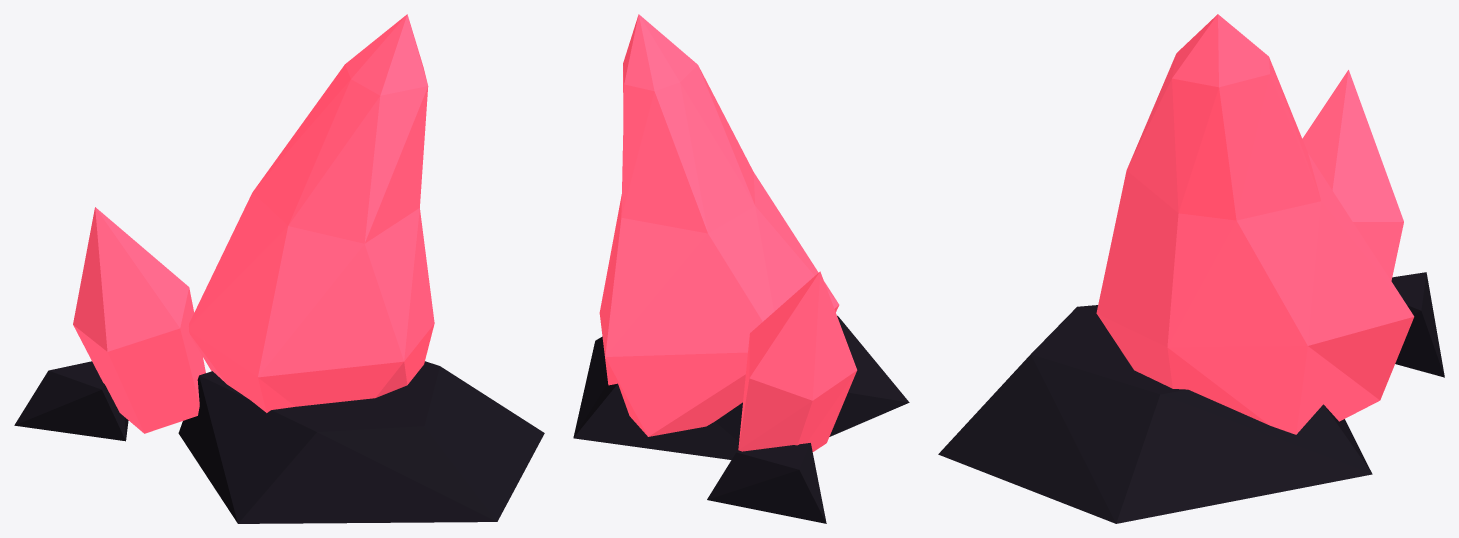
File: DA_RiftShard.fbx
The picture shows the model from 3 angles, left to right: view 1: azimuth 30°, elevation 25°; view 2: azimuth 150°, elevation 25°; view 3: azimuth 270°, elevation 25°; orthographic projection. The views are drawn at different scales.
Parts seen in each view (by area): view 1: DA_RiftShard_Neon_Rift, DA_RiftShard_Base; view 2: DA_RiftShard_Neon_Rift, DA_RiftShard_Base; view 3: DA_RiftShard_Neon_Rift, DA_RiftShard_Base.
Boxes of the visible parts, x1,y1,x2,y2 form: DA_RiftShard_Neon_Rift: (73, 14, 434, 433); DA_RiftShard_Base: (14, 361, 544, 523); DA_RiftShard_Neon_Rift: (599, 14, 857, 451); DA_RiftShard_Base: (573, 315, 909, 523); DA_RiftShard_Neon_Rift: (1096, 14, 1414, 434); DA_RiftShard_Base: (938, 272, 1444, 523).
Bounding box in the file's own units: 5 × 5 × 5.
